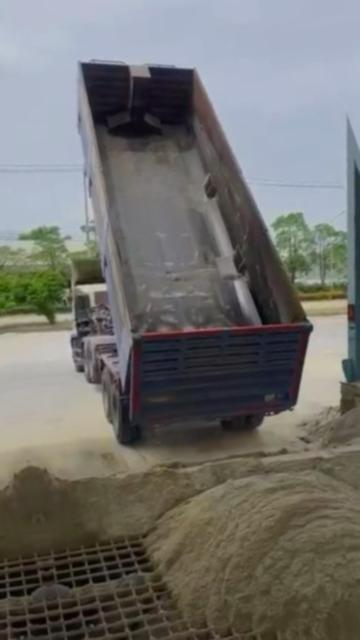sand: (30, 402, 360, 551), (147, 473, 360, 634), (52, 572, 157, 601)
